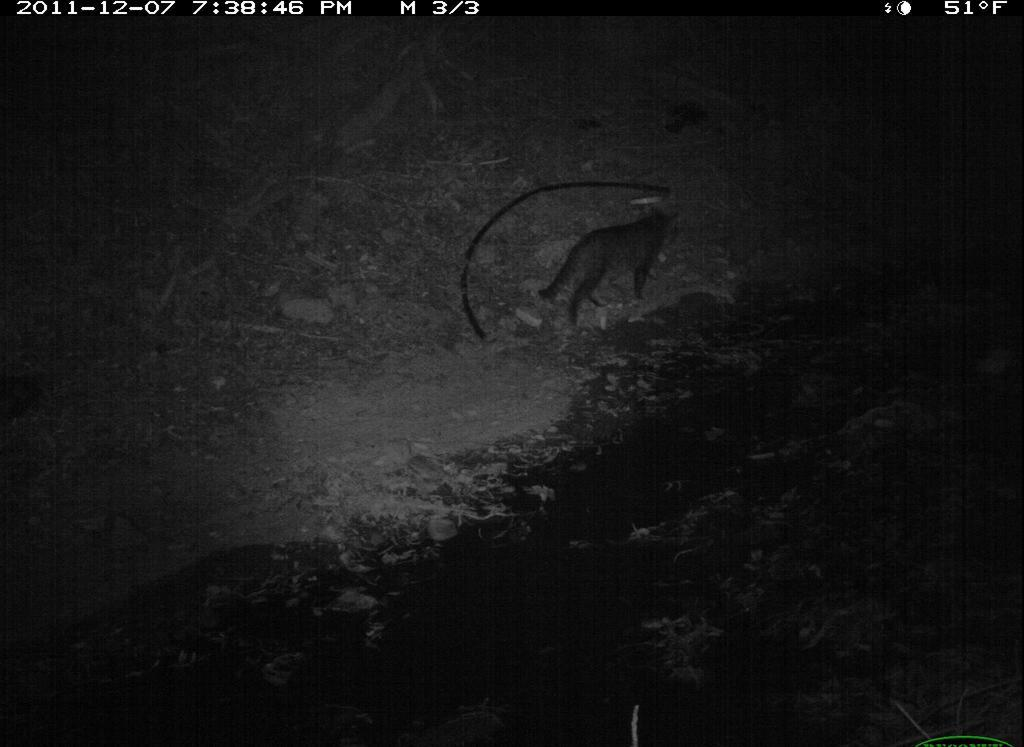cat: (536, 203, 688, 335)
